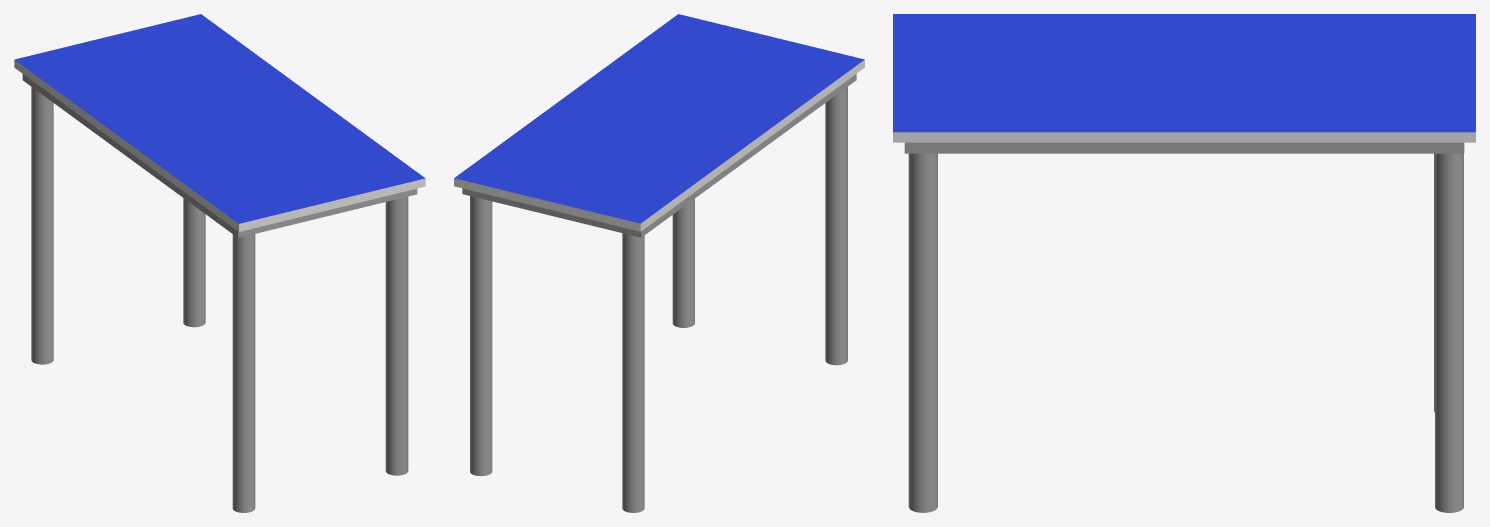
The model's file is MesaT2.fbx.
The picture shows the model from 3 angles, left to right: view 1: azimuth 30°, elevation 25°; view 2: azimuth 150°, elevation 25°; view 3: azimuth 270°, elevation 25°; orthographic projection. The views are drawn at different scales.
Parts seen in each view (by area): view 1: Cylinder; view 2: Cylinder; view 3: Cylinder.
Part boxes in pixels (x1=…): Cylinder: x1=14, y1=14, x2=425, y2=512; Cylinder: x1=454, y1=14, x2=864, y2=512; Cylinder: x1=893, y1=14, x2=1475, y2=512.
Bounding box in the file's own units: 480 × 729 × 1000.
